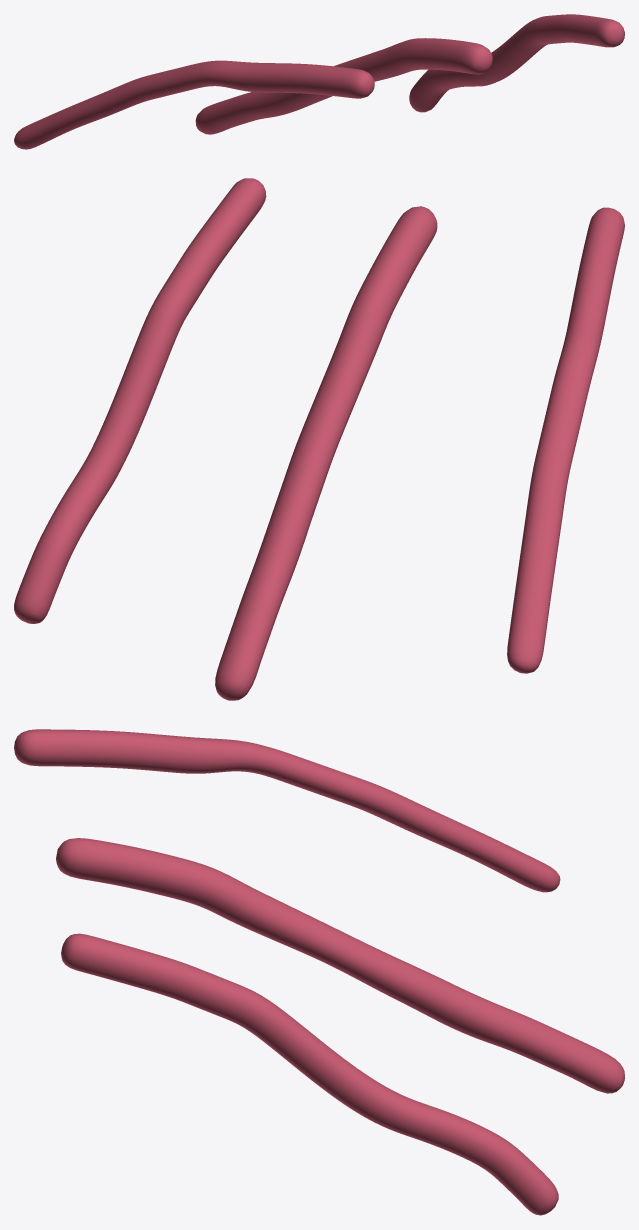
3 views of the same model, one above another, from view 1: azimuth 30°, elevation 25°; view 2: azimuth 150°, elevation 25°; view 3: azimuth 270°, elevation 25° (orthographic). The views are drawn at different scales.
Visible parts, largest first — view 1: 右侧手指腱滑膜鞘; view 2: 右侧手指腱滑膜鞘; view 3: 右侧手指腱滑膜鞘.
Boxes of the visible parts, x1,y1,x2,y2 form: 右侧手指腱滑膜鞘: (14, 14, 624, 149); 右侧手指腱滑膜鞘: (14, 178, 624, 700); 右侧手指腱滑膜鞘: (14, 729, 624, 1215).
Bounding box in the file's own units: 0.0883 × 0.0494 × 0.0857.
